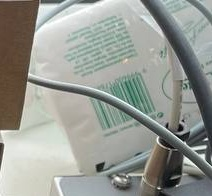1d: (86, 72, 157, 130)
